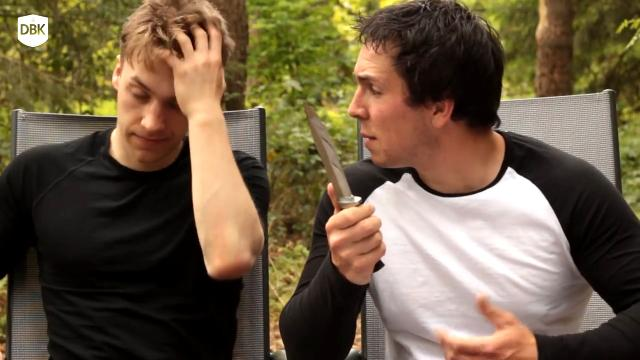pocket-knife: (294, 86, 388, 274)
